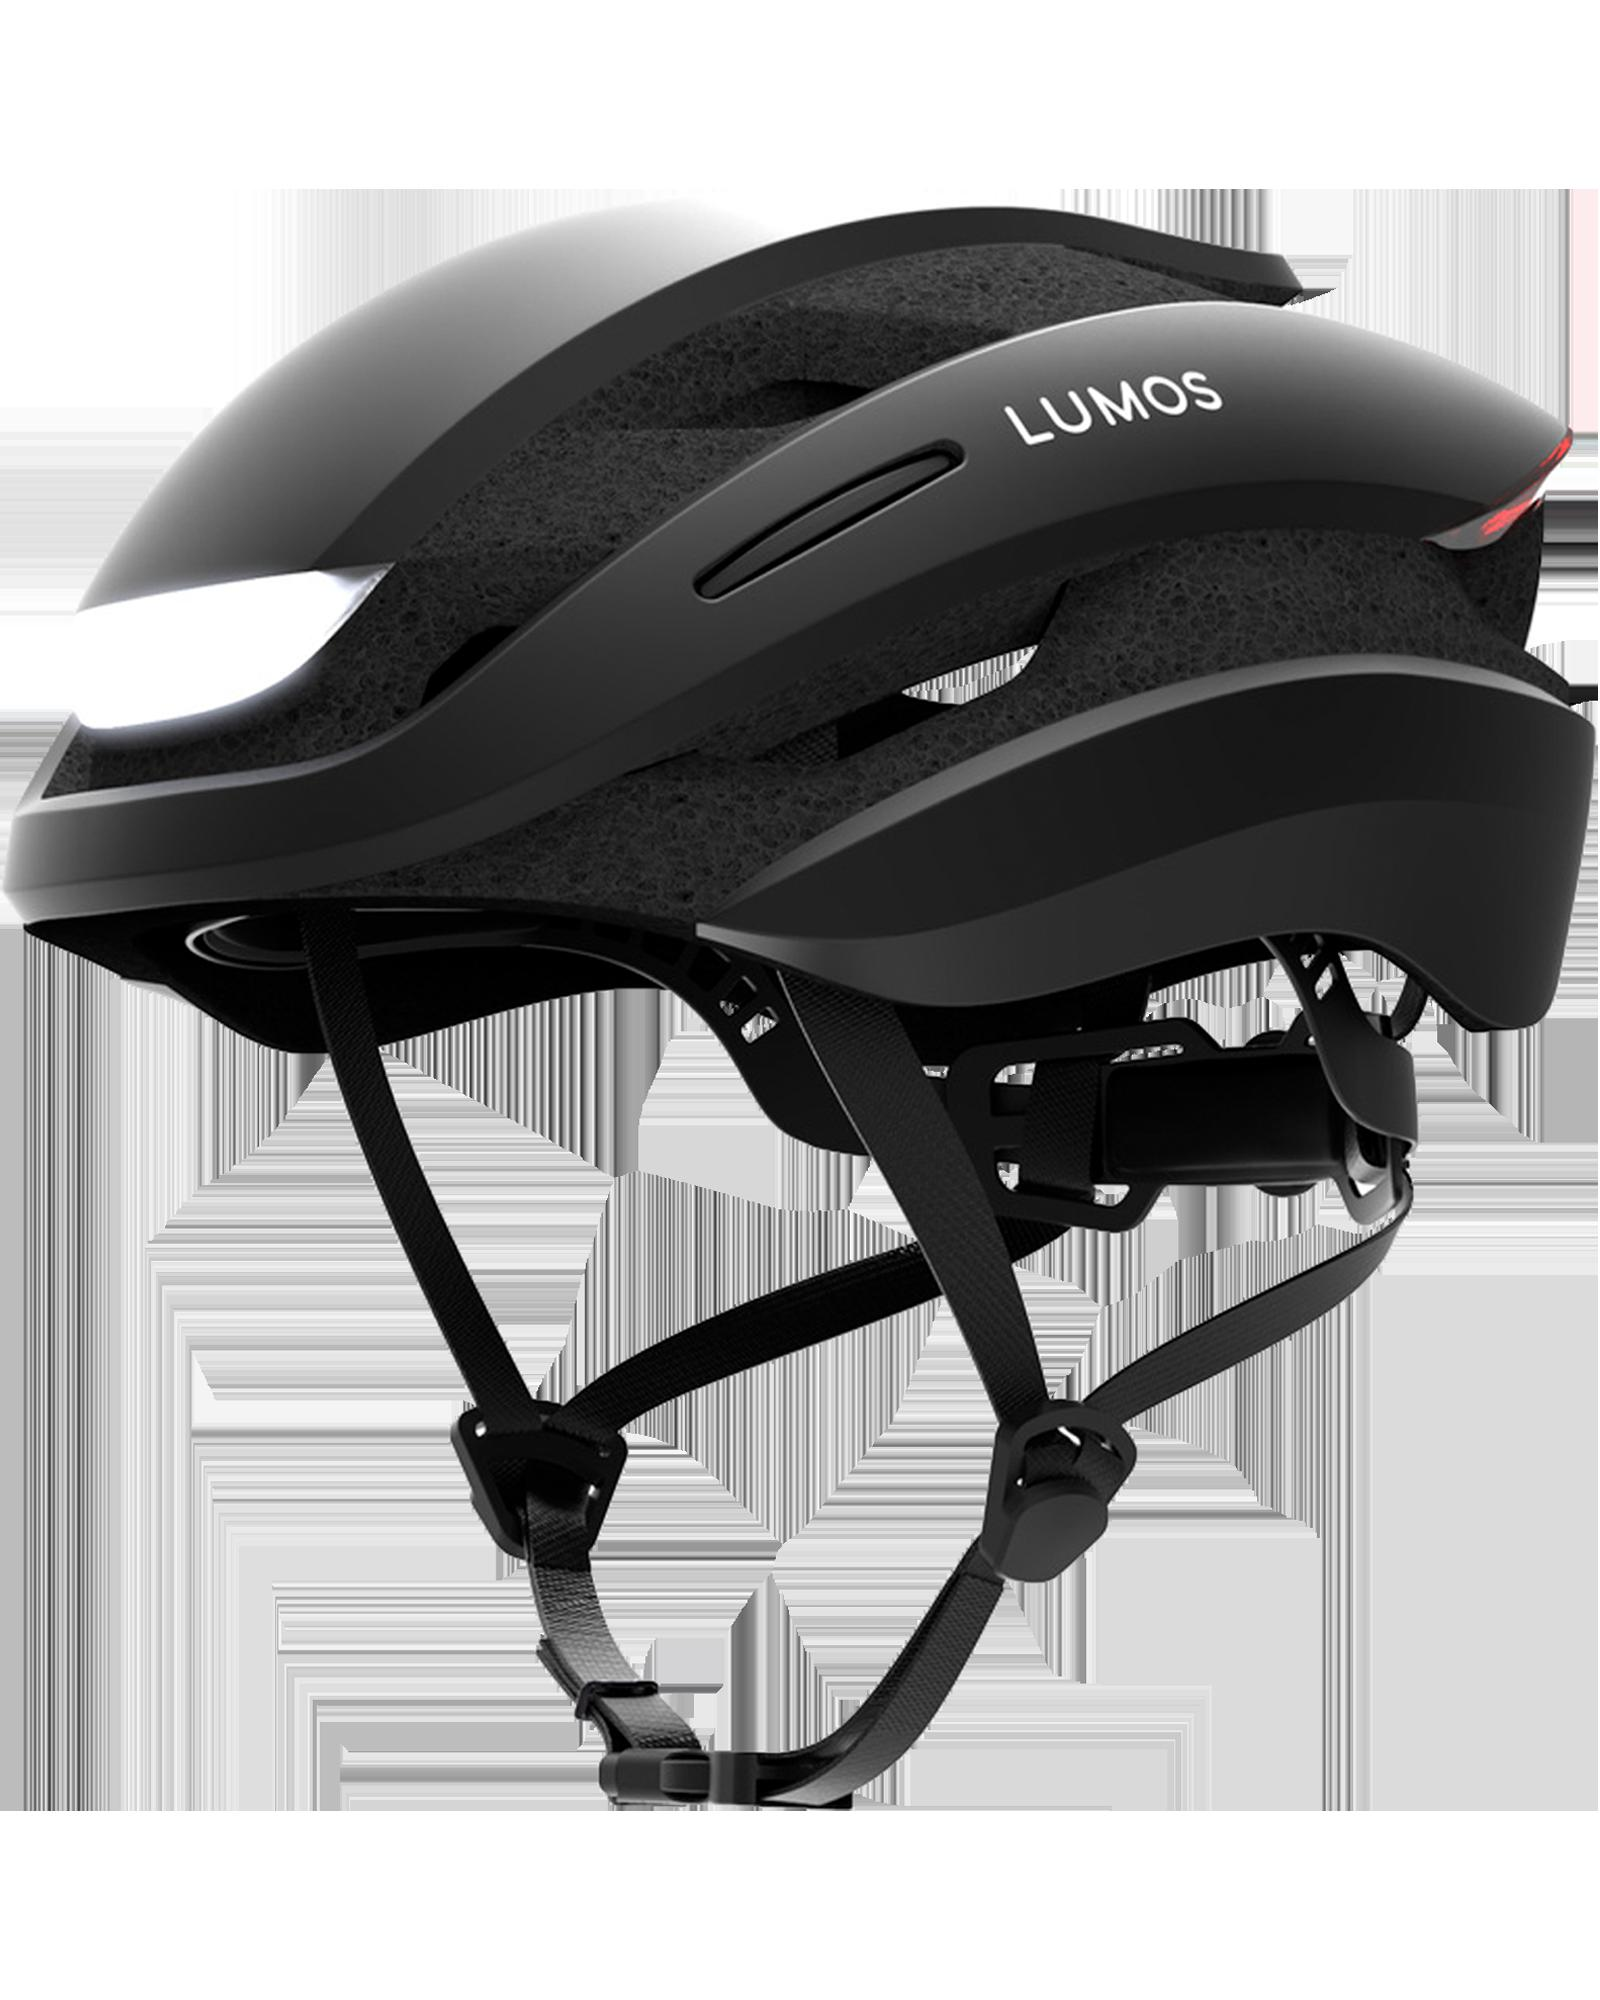helmet: (13, 29, 1582, 1864)
